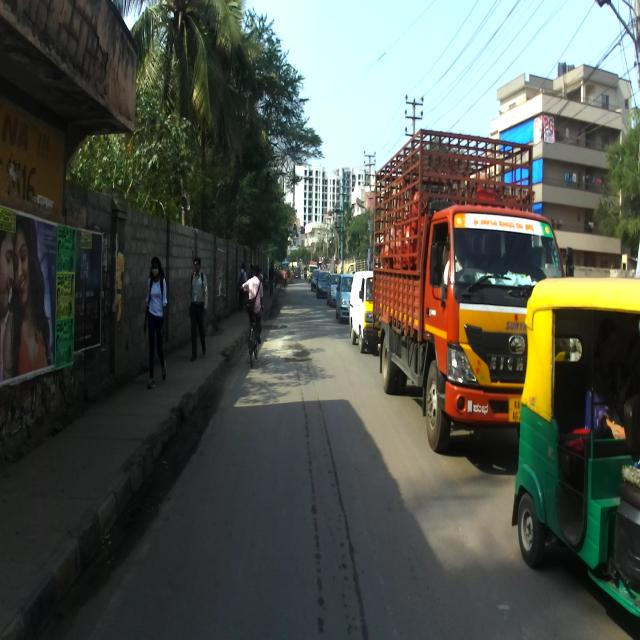auto ahead at: (517, 269, 640, 634)
person ahead at: (138, 252, 174, 388), (187, 258, 208, 354)
truck ahead at: (365, 127, 539, 447)
